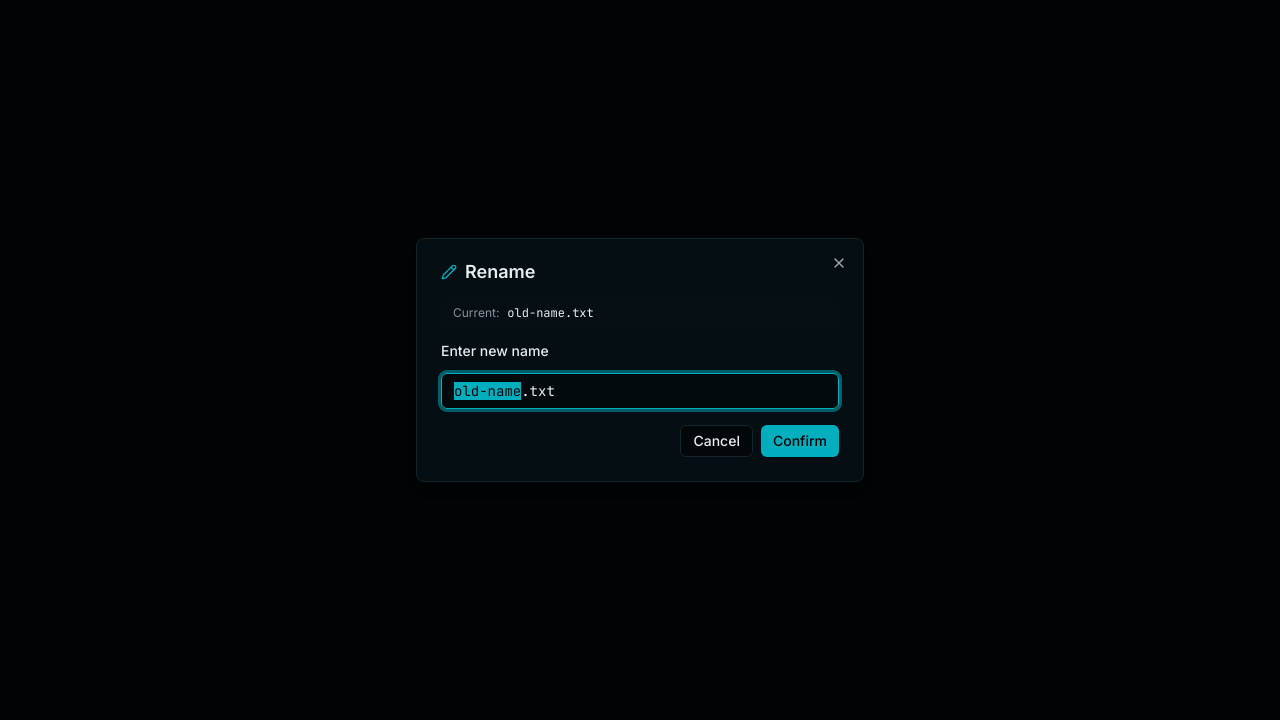
it: RenameDialog › should show error for name containing /
The image size is (1280, 720).
Step 1. Replace the text in the field showing "old-name.txt" with "path/name.txt" → (640, 391), box left=441, top=373, right=839, bottom=409
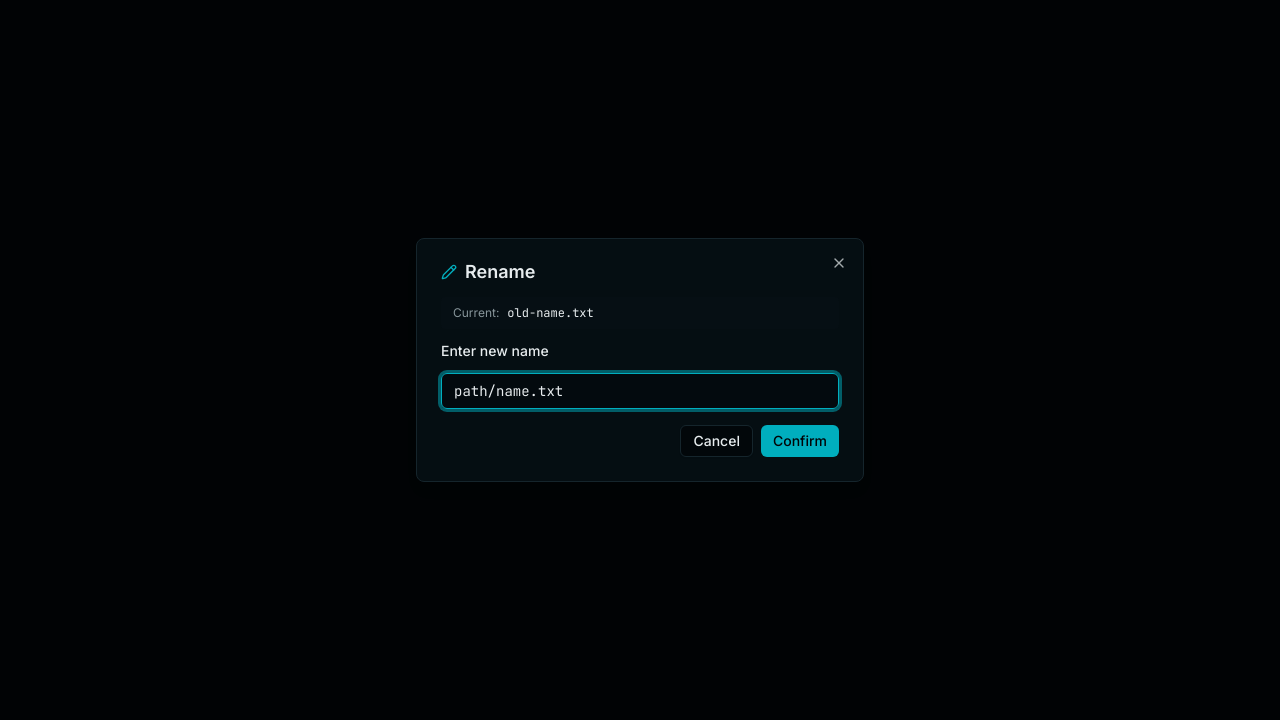
Step 2. Click the button "Confirm" → (800, 441), box left=761, top=425, right=839, bottom=457
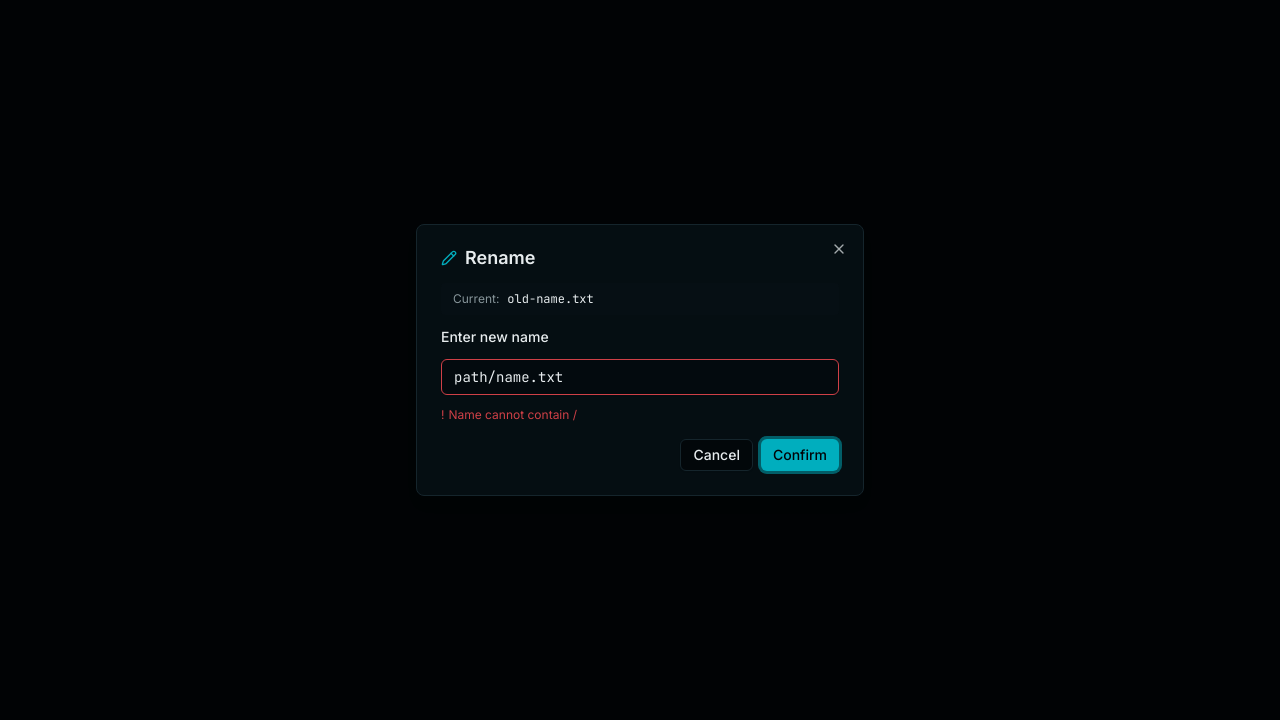
Expected: the text "! Name cannot contain /" is shown, left=441, top=407, right=577, bottom=422
